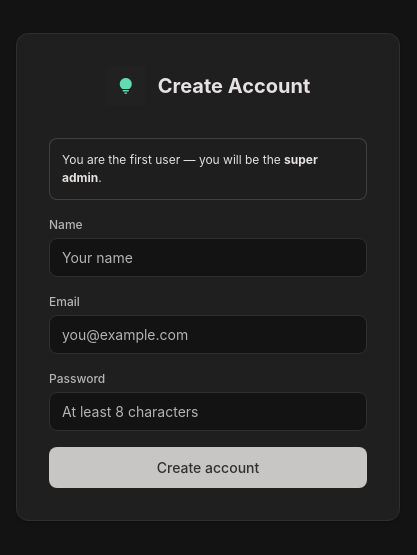
Test: auth pages and guards › blocks registration locally when the password is too short
Type "user@example.com" into the field with placeholder "you@example.com" at x=208, y=334, box [49,315,367,354]
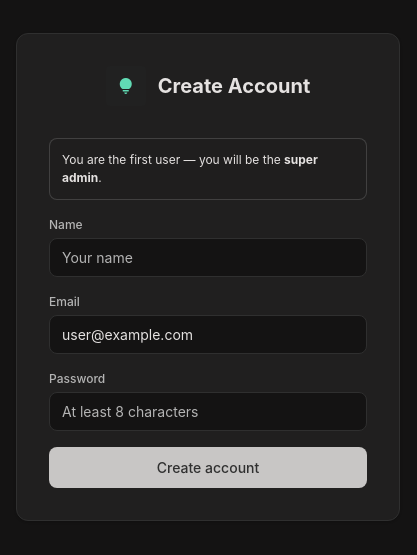
Type "short" into the password field with placeholder "At least 8 characters" at x=208, y=412, box [49,392,367,431]
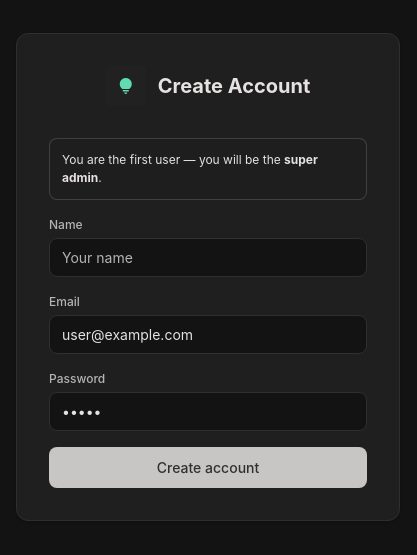
Click the button "Create account" at x=208, y=468, box [49,447,367,488]
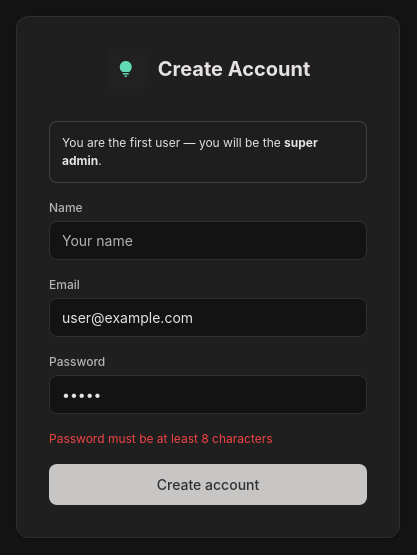
Expected: the text "Password must be at least 8 characters" is shown, [49,431,273,446]
